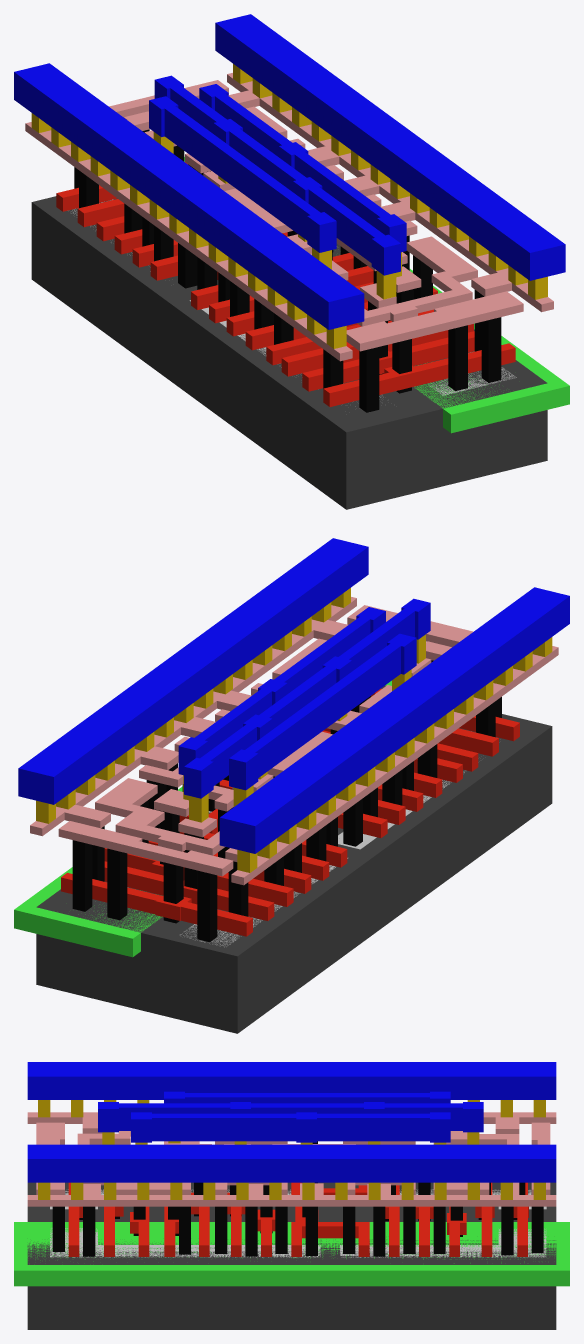
The model's file is sky130_fd_sc_hd__fa_1.obj.
The picture shows the model from 3 angles, top to bottom: view 1: azimuth 30°, elevation 25°; view 2: azimuth 150°, elevation 25°; view 3: azimuth 270°, elevation 25°; orthographic projection. The views are drawn at different scales.
Parts seen in each view (by area): view 1: metal1, subs, li, poly, licon, mcon, nwell; view 2: metal1, subs, li, poly, licon, mcon, nwell, diff; view 3: metal1, subs, nwell, li, licon, poly, mcon, tap.
Boxes of the visible parts, x1=… form: metal1: x1=14, y1=14, x2=565, y2=329; subs: x1=31, y1=196, x2=547, y2=509; li: x1=25, y1=73, x2=553, y2=361; poly: x1=56, y1=162, x2=515, y2=406; licon: x1=74, y1=129, x2=501, y2=412; mcon: x1=31, y1=64, x2=547, y2=348; nwell: x1=184, y1=157, x2=569, y2=433; metal1: x1=18, y1=538, x2=569, y2=853; subs: x1=36, y1=685, x2=552, y2=1033; li: x1=30, y1=597, x2=558, y2=885; poly: x1=61, y1=688, x2=519, y2=936; licon: x1=72, y1=660, x2=501, y2=942; mcon: x1=36, y1=588, x2=552, y2=872; nwell: x1=14, y1=680, x2=391, y2=957; diff: x1=180, y1=770, x2=465, y2=947; metal1: x1=27, y1=1062, x2=556, y2=1182; subs: x1=27, y1=1182, x2=556, y2=1329; nwell: x1=14, y1=1222, x2=569, y2=1286; li: x1=27, y1=1112, x2=556, y2=1206; licon: x1=52, y1=1141, x2=543, y2=1256; poly: x1=68, y1=1182, x2=528, y2=1256; mcon: x1=38, y1=1100, x2=545, y2=1199; tap: x1=50, y1=1228, x2=546, y2=1257.
Bounding box in the file's own units: 3.2 × 2.74 × 7.74.
